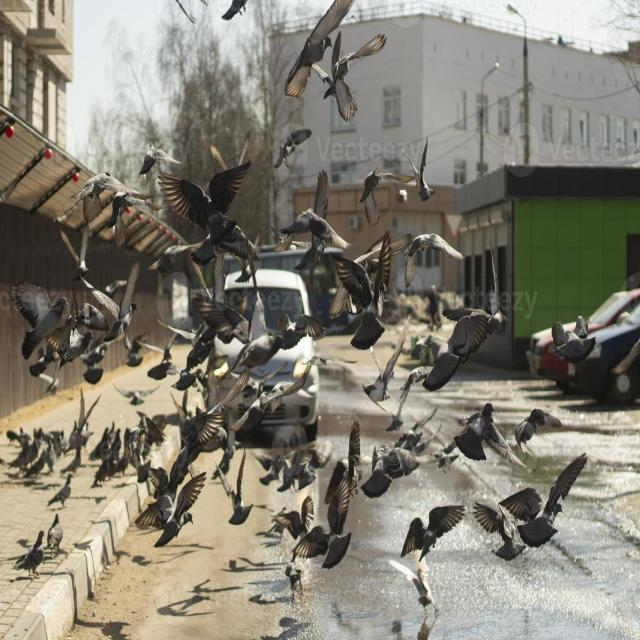bird: (277, 0, 352, 106), (296, 474, 366, 584), (506, 480, 602, 560), (10, 273, 76, 382), (468, 487, 543, 581), (386, 511, 486, 578), (77, 247, 142, 341), (324, 23, 398, 86), (132, 130, 198, 200), (450, 384, 506, 464), (50, 160, 126, 216), (312, 56, 358, 142), (215, 442, 257, 532), (156, 484, 212, 550), (266, 120, 322, 183), (398, 220, 474, 261), (401, 138, 446, 206), (136, 444, 178, 512), (350, 167, 390, 237), (368, 323, 398, 399), (9, 424, 46, 482), (15, 532, 56, 584), (66, 388, 102, 432), (46, 468, 80, 512), (58, 440, 92, 484), (119, 424, 139, 497), (44, 512, 74, 558), (143, 332, 185, 364), (112, 407, 128, 490), (91, 421, 112, 466)
